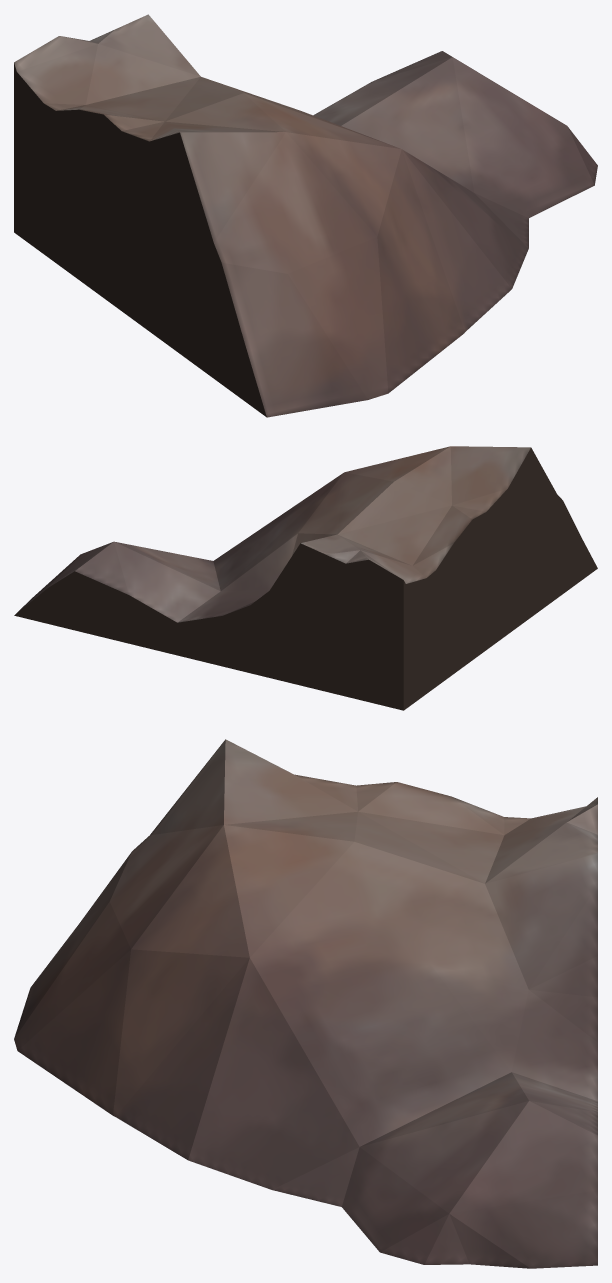
File: Level-Rock.fbx
3 views of the same model, one above another, from view 1: azimuth 30°, elevation 25°; view 2: azimuth 150°, elevation 25°; view 3: azimuth 270°, elevation 25° (orthographic). The views are drawn at different scales.
Visible parts, largest first — view 1: Level-Rock; view 2: Level-Rock; view 3: Level-Rock.
Part boxes in pixels (<box>): Level-Rock: <box>14,14,597,417</box>; Level-Rock: <box>14,446,597,710</box>; Level-Rock: <box>14,739,597,1268</box>.
Size of the model in its own units: 6.28 by 2.59 by 5.52.
Materials: 1 (1 with a texture image).
